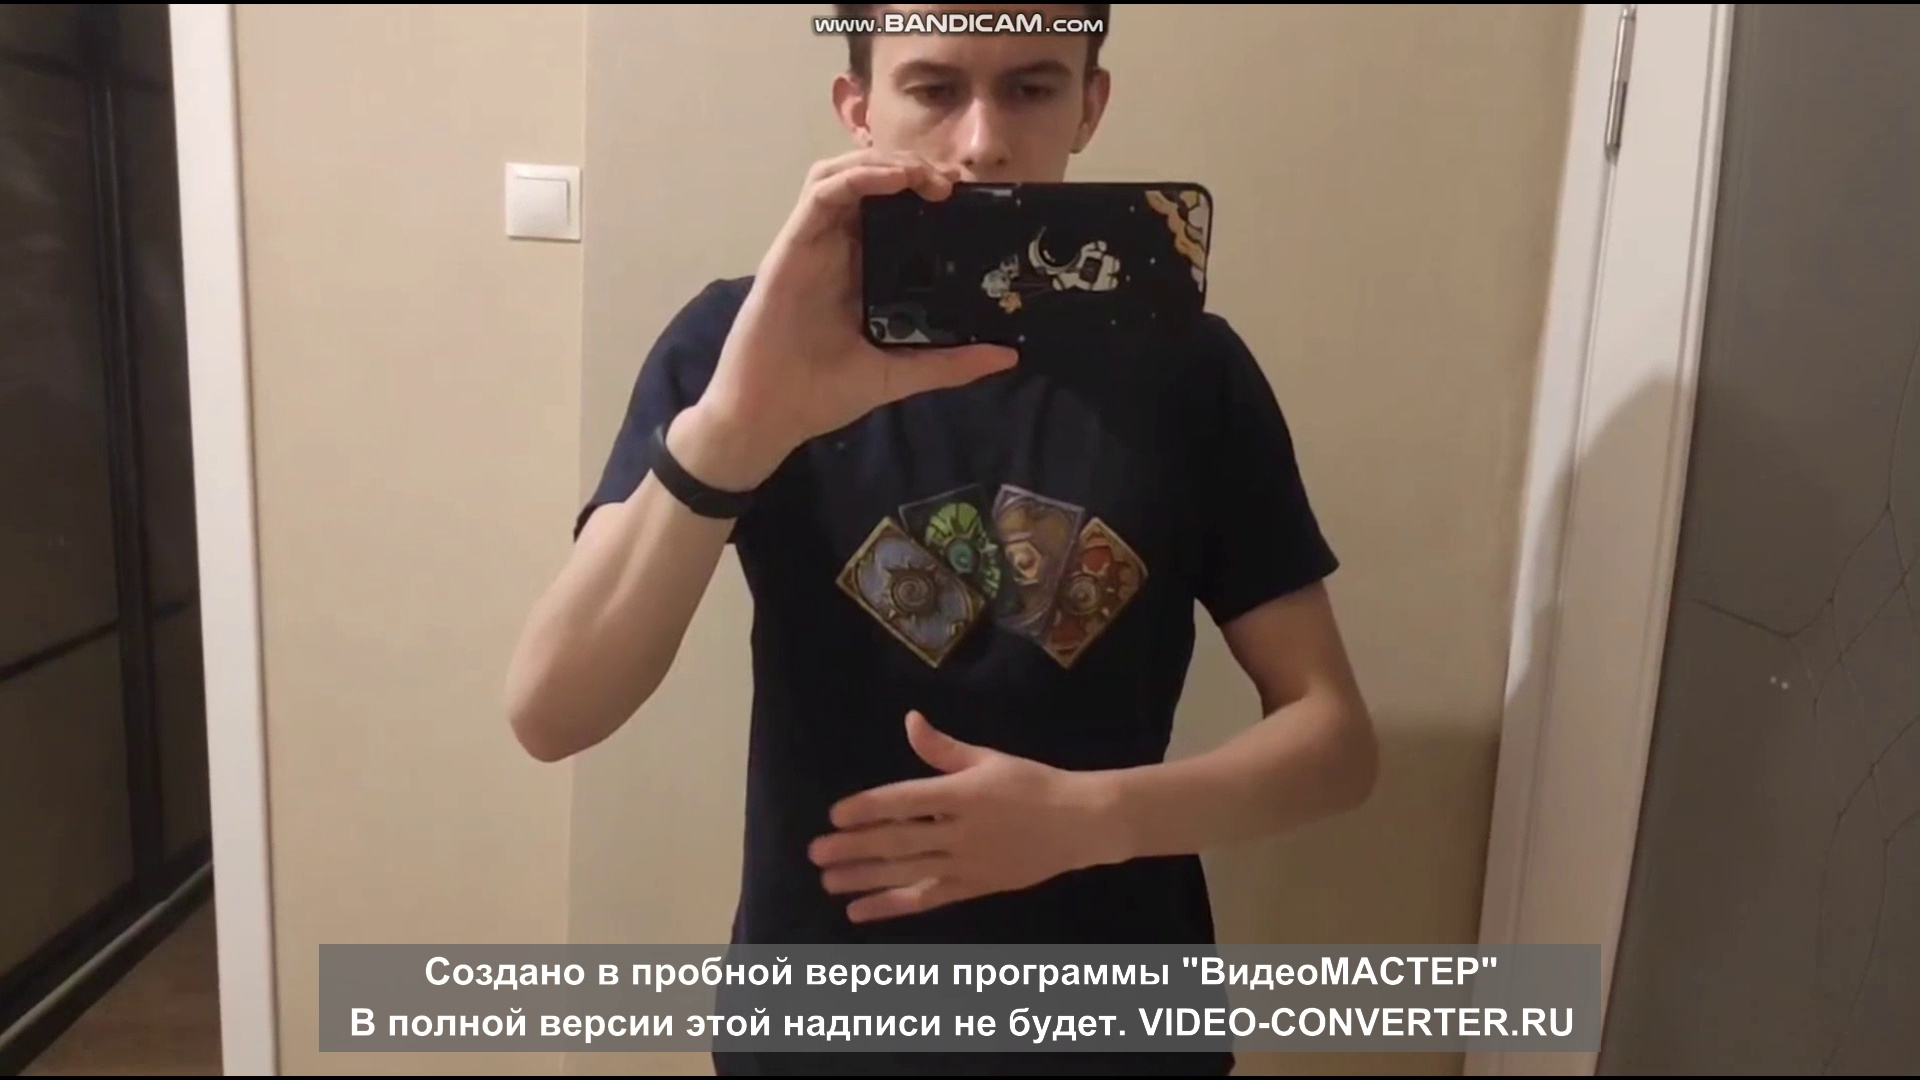Кисть: (806, 707, 1069, 926)
